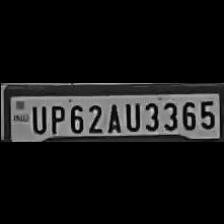2: (84, 100, 103, 132)
3: (142, 98, 160, 130), (160, 97, 178, 128)
5: (198, 97, 216, 129)
6: (65, 100, 83, 132), (178, 97, 196, 128)
A: (103, 99, 121, 130)
P: (46, 101, 64, 133)
U: (122, 98, 140, 130), (28, 102, 46, 132)
